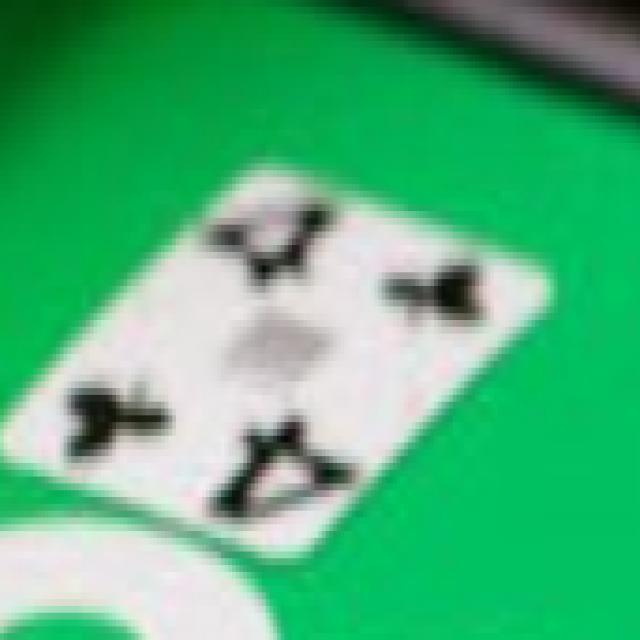Card-4: (3, 158, 555, 563)
